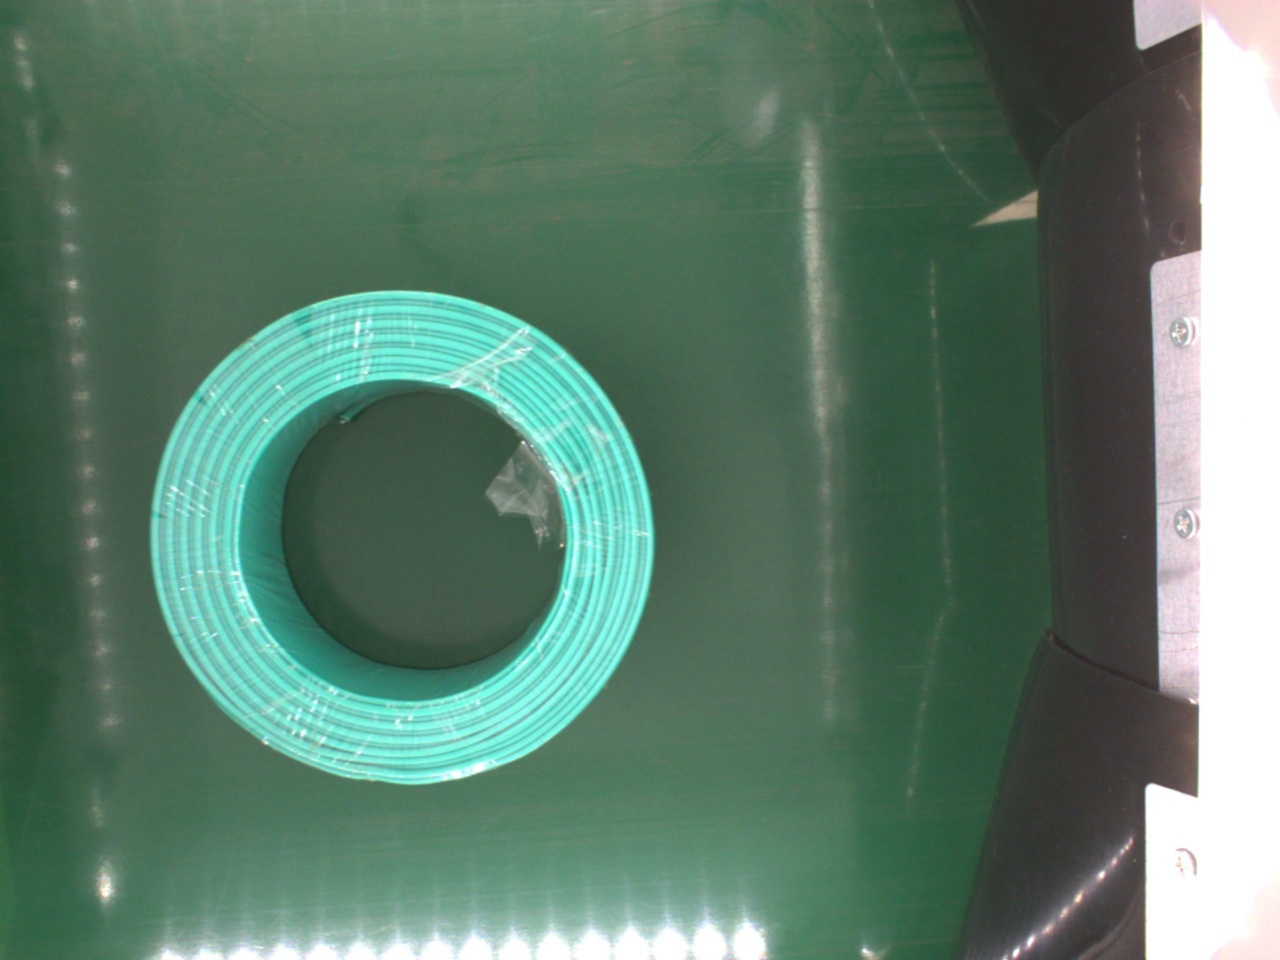green: (146, 289, 657, 784)
